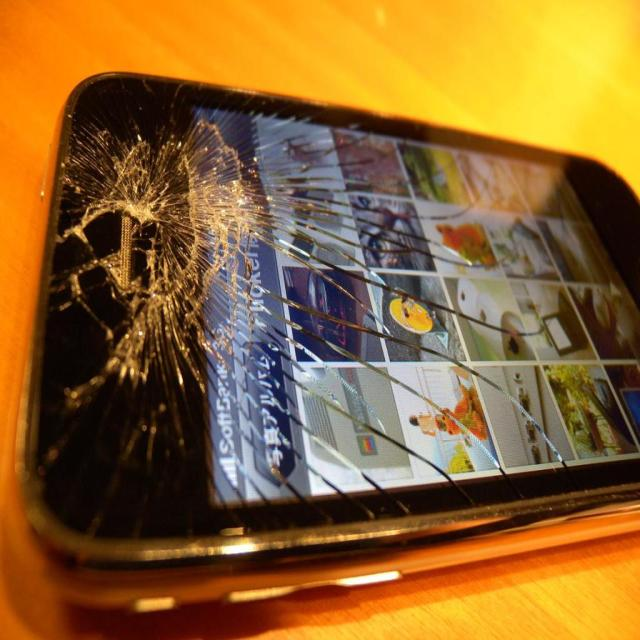Mobile-phone: (0, 56, 640, 603)
